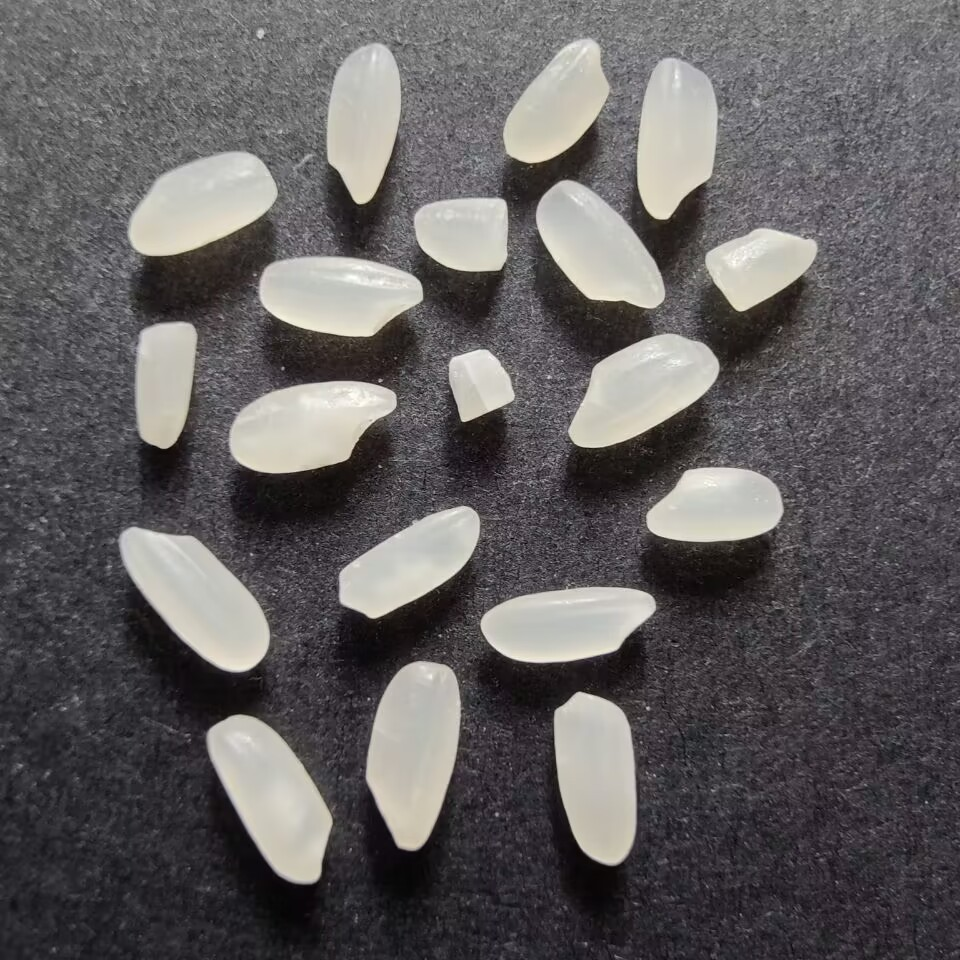broken: (700, 225, 821, 316), (129, 319, 202, 452), (412, 192, 515, 275), (445, 347, 520, 426)
rice: (112, 524, 275, 676), (200, 712, 337, 889), (362, 654, 461, 858), (561, 332, 722, 450), (121, 146, 285, 261), (335, 500, 486, 624), (530, 176, 666, 311), (224, 376, 401, 478), (547, 686, 640, 874), (256, 252, 427, 342), (475, 585, 658, 667), (498, 37, 615, 165), (635, 52, 720, 220), (321, 39, 405, 207), (642, 462, 787, 546)
